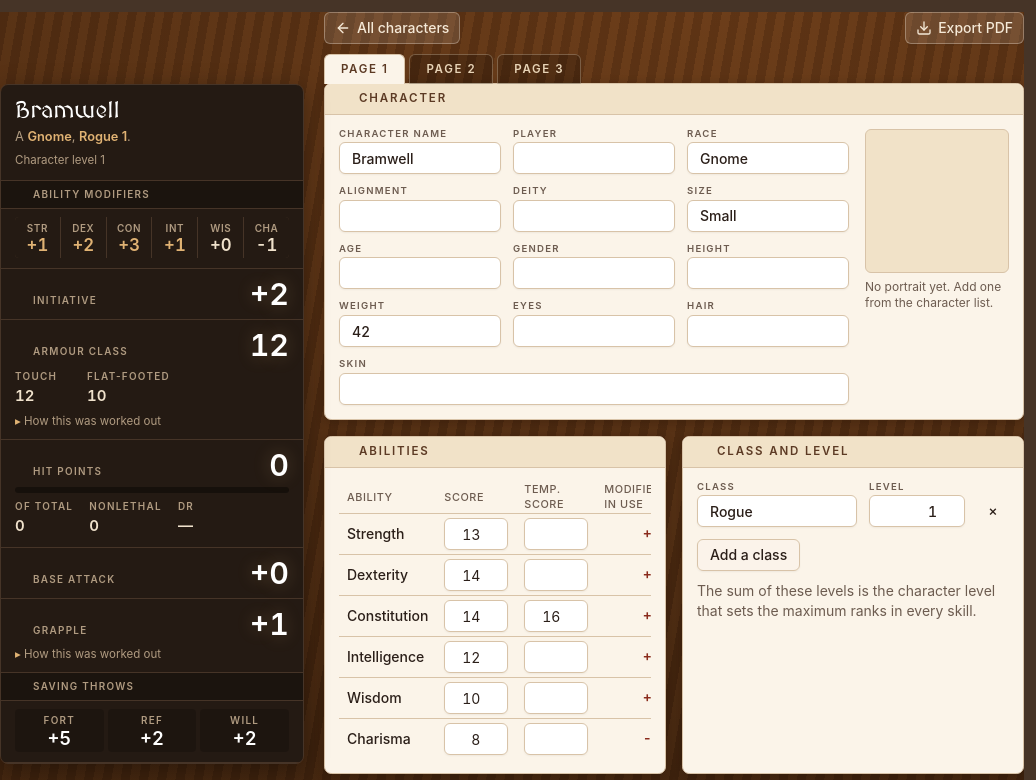
Test: no rules arithmetic in the frontend › takes the new numbers from the derive response
The width and height of the screenshot is (1036, 780).
Replace the text in the number field named "Dexterity score" with "18". click: {"x": 476, "y": 575}
box: [444,559,508,591]
Wait 300 ms
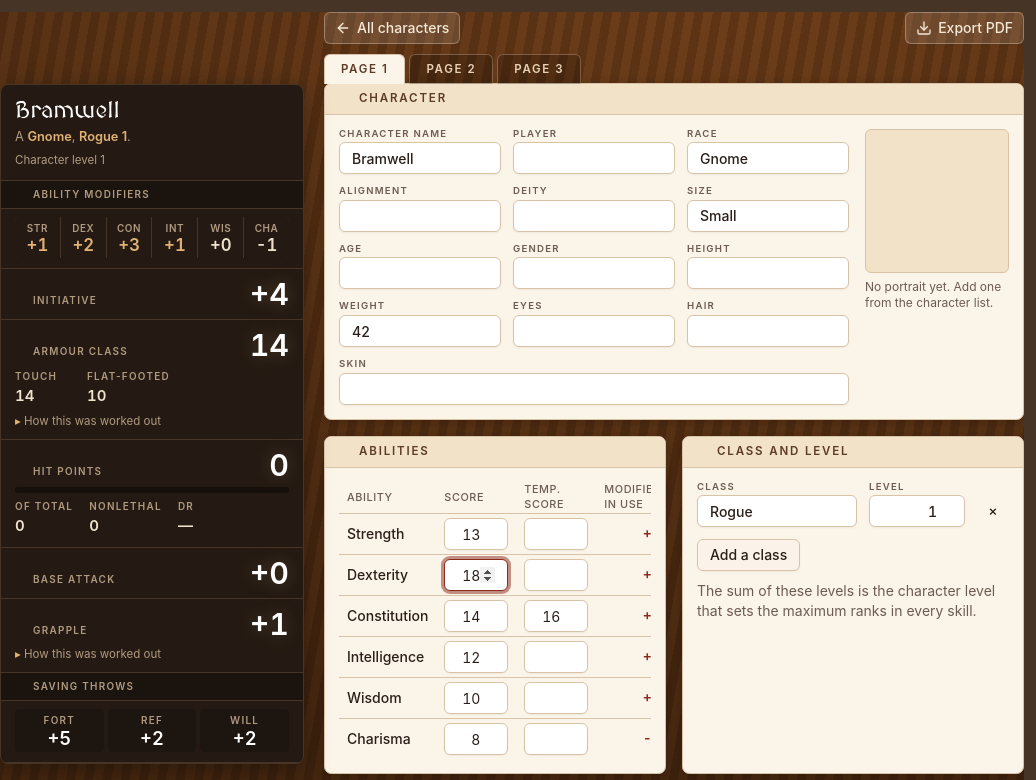
Expected: the text named "Armour class" reads "14", [250,327,289,363]
Expected: the text named "Initiative" reads "+4", [250,276,289,312]
